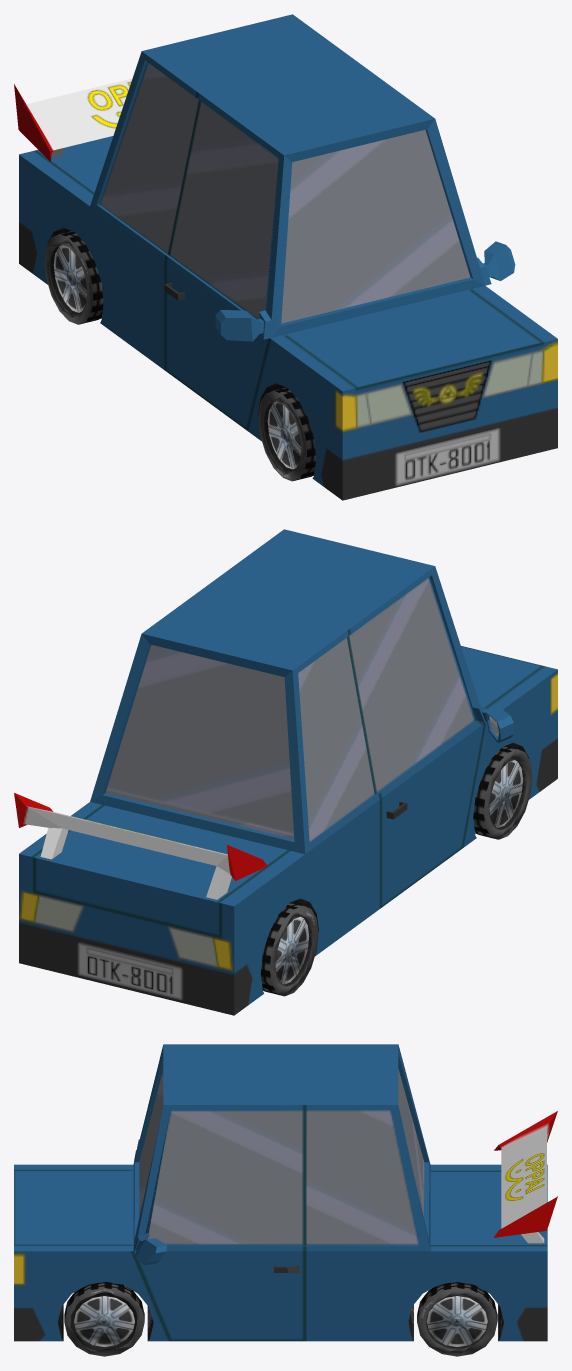
The model's file is carro.fbx.
3 views of the same model, one above another, from view 1: azimuth 30°, elevation 25°; view 2: azimuth 150°, elevation 25°; view 3: azimuth 270°, elevation 25° (orthographic). The views are drawn at different scales.
Parts seen in each view (by area): view 1: Cube; view 2: Cube; view 3: Cube.
Boxes of the visible parts, <box> form: Cube: <box>14,14,557,500</box>; Cube: <box>14,529,557,1015</box>; Cube: <box>14,1044,557,1356</box>.
Bounding box in the file's own units: 4.93 × 4.62 × 9.61.
